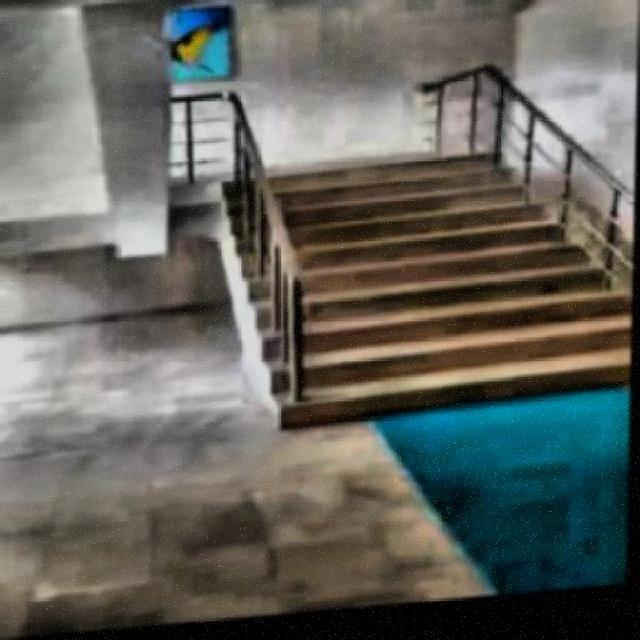stair: (207, 150, 636, 438)
